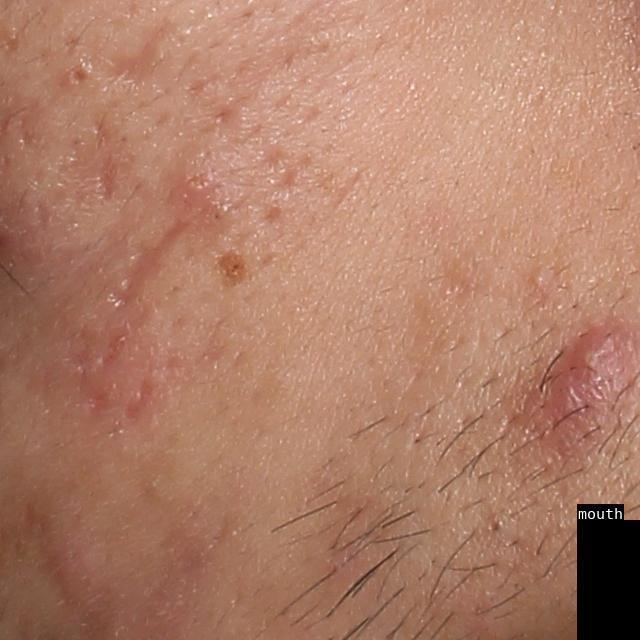atrophic_scar: (29, 104, 136, 236), (101, 210, 211, 310), (65, 315, 107, 424), (116, 373, 167, 431), (269, 162, 300, 196)
comedo: (66, 64, 94, 89), (527, 264, 553, 290)
papule: (39, 526, 103, 605), (167, 156, 218, 200)
